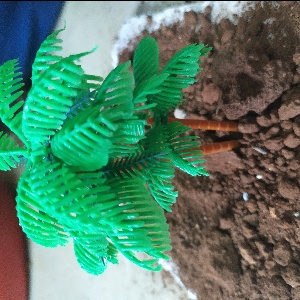plant: (4, 48, 218, 261)
